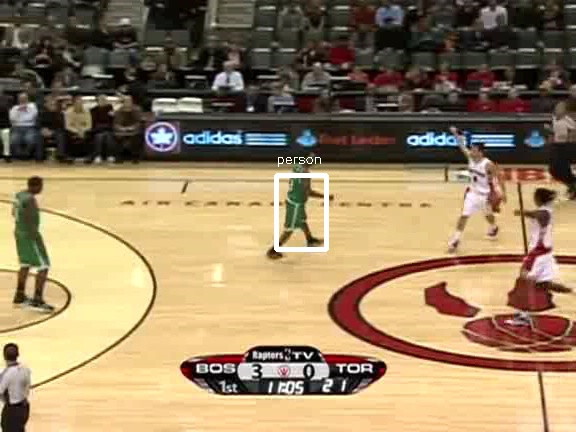person: (283, 159, 317, 240), (282, 159, 316, 240), (284, 159, 318, 240), (283, 158, 317, 239), (283, 160, 317, 241)
target_negative: (127, 339, 391, 399), (80, 189, 355, 244), (449, 250, 532, 414), (423, 293, 572, 369), (377, 204, 435, 216), (414, 66, 420, 96)
